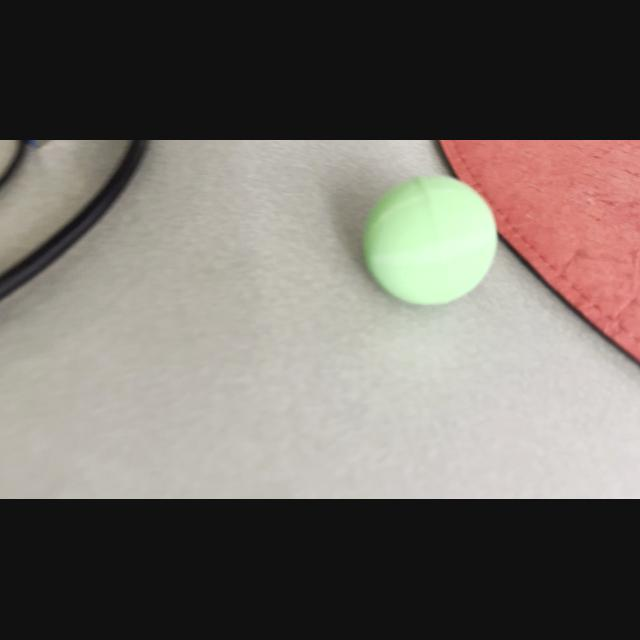objects: (354, 170, 502, 308)
